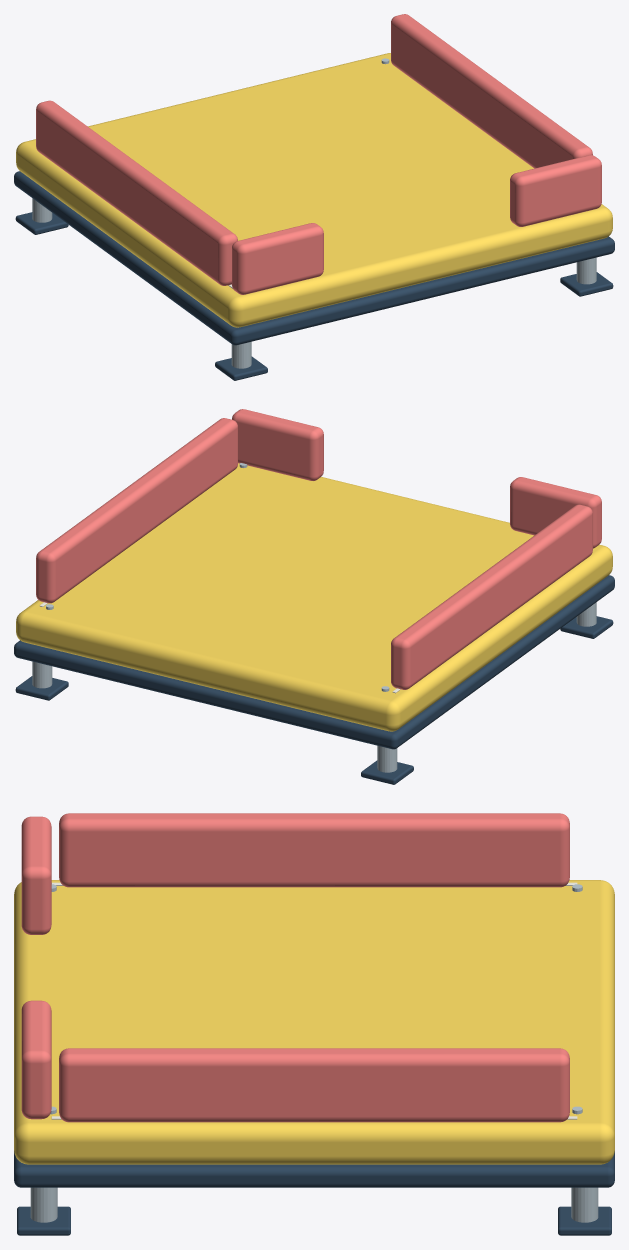
File: party-obstacle-course-party-obstacle-course-end-landin-ac9a4c90__28926.glb
3 views of the same model, one above another, from view 1: azimuth 30°, elevation 25°; view 2: azimuth 150°, elevation 25°; view 3: azimuth 270°, elevation 25° (orthographic). The views are drawn at different scales.
Parts seen in each view (by area): view 1: party-obstacle-course-end-landing; view 2: party-obstacle-course-end-landing; view 3: party-obstacle-course-end-landing.
Part boxes in pixels (<box>): party-obstacle-course-end-landing: <box>14,14,614,380</box>; party-obstacle-course-end-landing: <box>14,409,614,784</box>; party-obstacle-course-end-landing: <box>14,813,614,1235</box>.
Bounding box in the file's own units: 4 × 1.3 × 4.
